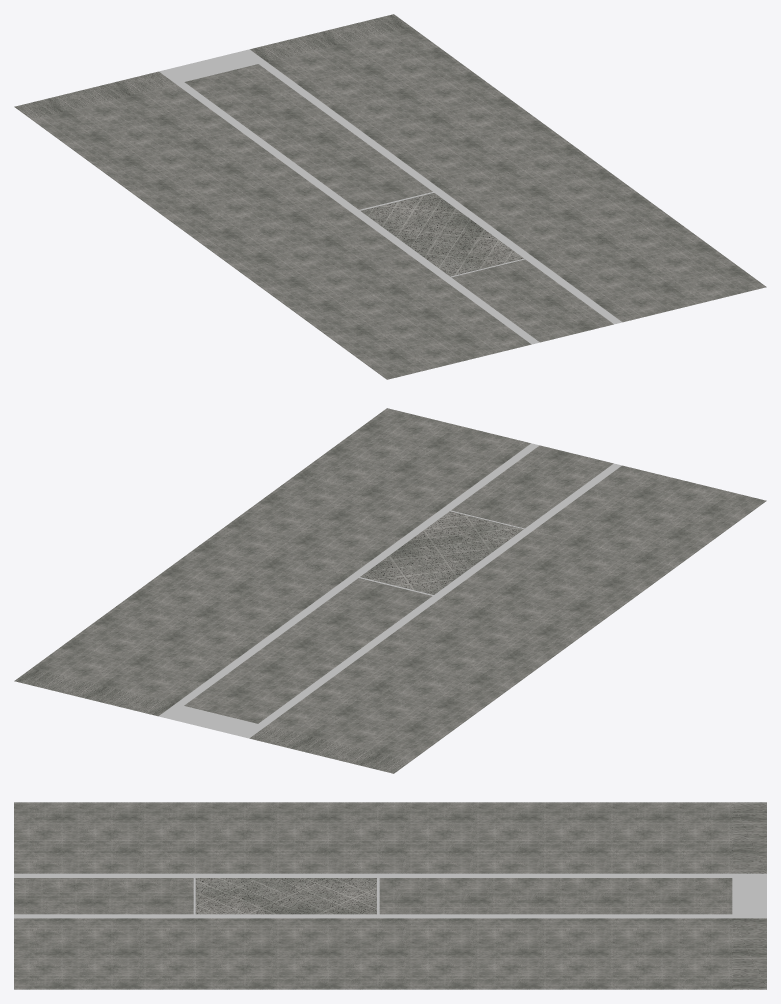
File: Floor.gltf
3 renders of one model, top to bottom at view 1: azimuth 30°, elevation 25°; view 2: azimuth 150°, elevation 25°; view 3: azimuth 270°, elevation 25°, orthographic.
Parts seen in each view (by area): view 1: Floor.001; view 2: Floor.001; view 3: Floor.001.
Part boxes in pixels (x1,y1,x2,y2): Floor.001: (14, 14, 766, 379); Floor.001: (14, 408, 766, 773); Floor.001: (14, 802, 766, 989).
Bounding box in the file's own units: 26.28 × 4.49e-07 × 44.7.
